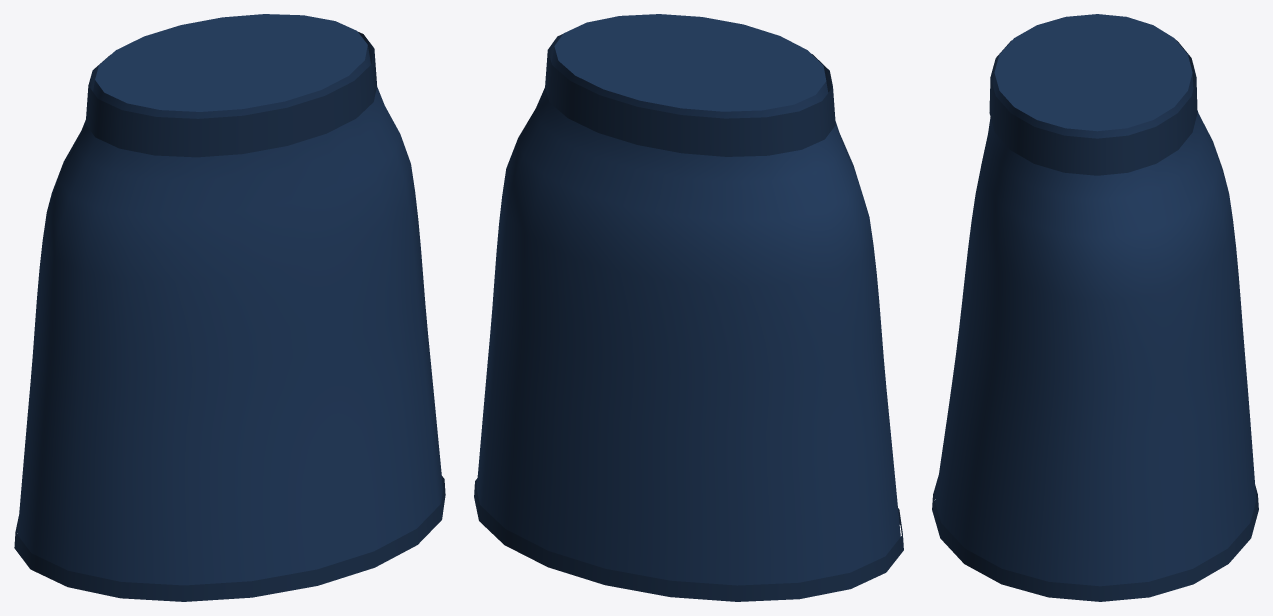
Rendered from npc_hips_skirt.glb.
3 views of the same model, side by side, from view 1: azimuth 30°, elevation 25°; view 2: azimuth 150°, elevation 25°; view 3: azimuth 270°, elevation 25° (orthographic). The views are drawn at different scales.
Visible parts, largest first — view 1: npc_hips_skirt; view 2: npc_hips_skirt; view 3: npc_hips_skirt.
Part boxes in pixels (x1,y1,x2,y2): npc_hips_skirt: (14, 14, 445, 601); npc_hips_skirt: (474, 14, 903, 601); npc_hips_skirt: (932, 14, 1258, 601).
Size of the model in its own units: 0.44 by 0.487 by 0.33.
